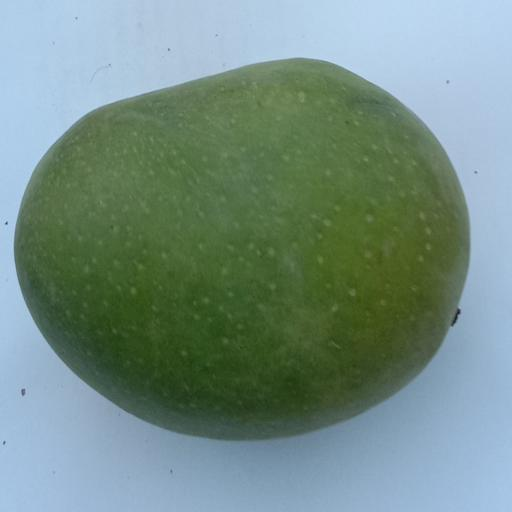mango-unripe: (8, 54, 487, 464)
